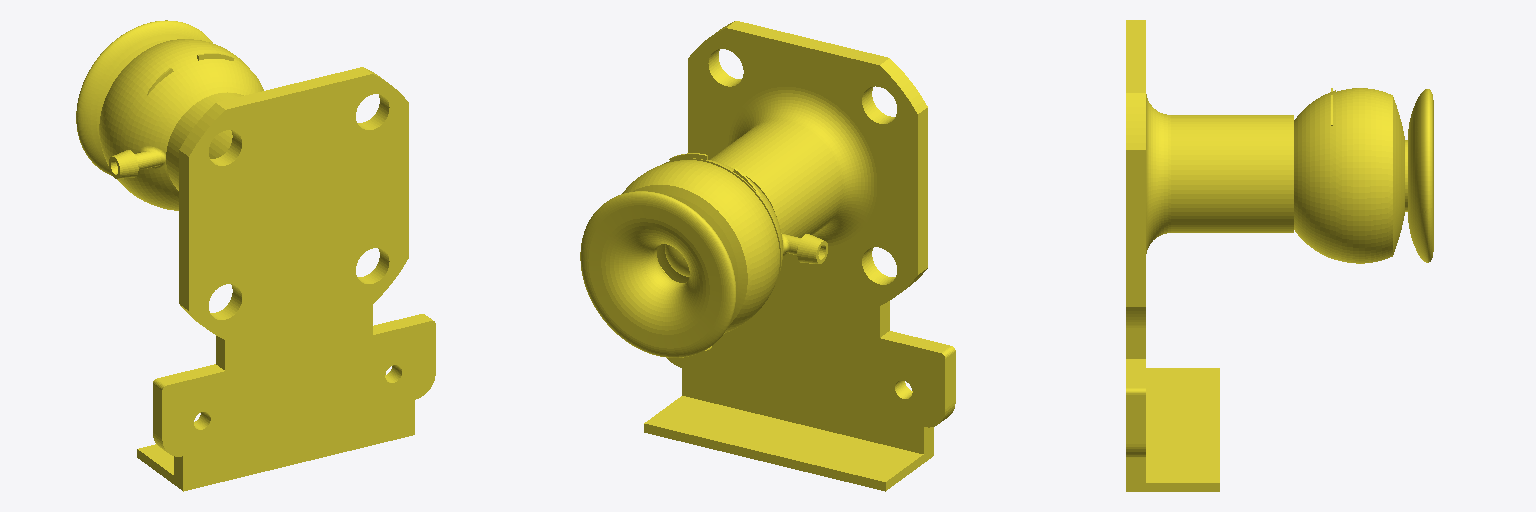
The robot description file, URDF, robot "ur3e_robot":
<?xml version="1.0" ?>
<!-- =================================================================================== -->
<!-- |    This document was autogenerated by xacro from [local-path]/PycharmProjects/realsense/catkin_ws/src/universal_robot/ur_description/urdf/ur3e.xacro | -->
<!-- |    EDITING THIS FILE BY HAND IS NOT RECOMMENDED                                 | -->
<!-- =================================================================================== -->
<robot name="ur3e_robot">
    <!--
    Base UR robot series xacro macro.

    NOTE: this is NOT a URDF. It cannot directly be loaded by consumers
    expecting a flattened '.urdf' file. See the top-level '.xacro' for that
    (but note: that .xacro must still be processed by the xacro command).

    For use in '.launch' files: use one of the 'load_urX.launch' convenience
    launch files.

    This file models the base kinematic chain of a UR robot, which then gets
    parameterised by various configuration files to convert it into a UR3(e),
    UR5(e), UR10(e), UR16e, UR20 or UR30.

    NOTE: the default kinematic parameters (ie: link lengths, frame locations,
    offets, etc) do not correspond to any particular robot. They are defaults
    only. There WILL be non-zero offsets between the Forward Kinematics results
    in TF (ie: robot_state_publisher) and the values reported by the Teach
    Pendant.

    For accurate (and robot-specific) transforms, the 'kinematics_parameters_file'
    parameter MUST point to a .yaml file containing the appropriate values for
    the targetted robot.

    If using the UniversalRobots/Universal_Robots_ROS_Driver, follow the steps
    described in the readme of that repository to extract the kinematic
    calibration from the controller and generate the required .yaml file.

    Main author of the migration to yaml configs: [author].

    Contributors to previous versions (in no particular order):

     - [author]
     - [author]
     - [author]
     - [author]
     - [author]
     - [author]
     - [author]
     - [author]
     - [author]
     - [author]
     - [author]
     - [author]
     - [author]
     - [author]
     - [author]
     - [author]
     - [author]
  -->
    <!--
    NOTE: the macro defined in this file is NOT part of the public API of this
          package. Users CANNOT rely on this file being available, or stored in
          this location. Nor can they rely on the existence of the macro.
  -->
    <transmission name="shoulder_pan_trans">
        <type>transmission_interface/SimpleTransmission</type>
        <joint name="shoulder_pan_joint">
            <hardwareInterface>hardware_interface/PositionJointInterface</hardwareInterface>
        </joint>
        <actuator name="shoulder_pan_motor">
            <mechanicalReduction>1</mechanicalReduction>
            <hardwareInterface>hardware_interface/EffortJointInterface</hardwareInterface>
        </actuator>
    </transmission>
    <transmission name="shoulder_lift_trans">
        <type>transmission_interface/SimpleTransmission</type>
        <joint name="shoulder_lift_joint">
            <hardwareInterface>hardware_interface/PositionJointInterface</hardwareInterface>
        </joint>
        <actuator name="shoulder_lift_motor">
            <mechanicalReduction>1</mechanicalReduction>
            <hardwareInterface>hardware_interface/EffortJointInterface</hardwareInterface>
        </actuator>
    </transmission>
    <transmission name="elbow_trans">
        <type>transmission_interface/SimpleTransmission</type>
        <joint name="elbow_joint">
            <hardwareInterface>hardware_interface/PositionJointInterface</hardwareInterface>
        </joint>
        <actuator name="elbow_motor">
            <mechanicalReduction>1</mechanicalReduction>
            <hardwareInterface>hardware_interface/EffortJointInterface</hardwareInterface>
        </actuator>
    </transmission>
    <transmission name="wrist_1_trans">
        <type>transmission_interface/SimpleTransmission</type>
        <joint name="wrist_1_joint">
            <hardwareInterface>hardware_interface/PositionJointInterface</hardwareInterface>
        </joint>
        <actuator name="wrist_1_motor">
            <mechanicalReduction>1</mechanicalReduction>
            <hardwareInterface>hardware_interface/EffortJointInterface</hardwareInterface>
        </actuator>
    </transmission>
    <transmission name="wrist_2_trans">
        <type>transmission_interface/SimpleTransmission</type>
        <joint name="wrist_2_joint">
            <hardwareInterface>hardware_interface/PositionJointInterface</hardwareInterface>
        </joint>
        <actuator name="wrist_2_motor">
            <mechanicalReduction>1</mechanicalReduction>
            <hardwareInterface>hardware_interface/EffortJointInterface</hardwareInterface>
        </actuator>
    </transmission>
    <transmission name="wrist_3_trans">
        <type>transmission_interface/SimpleTransmission</type>
        <joint name="wrist_3_joint">
            <hardwareInterface>hardware_interface/PositionJointInterface</hardwareInterface>
        </joint>
        <actuator name="wrist_3_motor">
            <mechanicalReduction>1</mechanicalReduction>
            <hardwareInterface>hardware_interface/EffortJointInterface</hardwareInterface>
        </actuator>
    </transmission>
    <!-- links: main serial chain -->
    <link name="base_link" />
    <link name="base_link_inertia">
        <visual>
            <origin rpy="0 0 3.141592653589793" xyz="0 0 0" />
            <geometry>
                <mesh filename="package://ur_description/meshes/ur3e/visual/base.dae" />
            </geometry>
            <material name="LightGrey">
                <color rgba="0.7 0.7 0.7 1.0" />
            </material>
        </visual>
        <collision>
            <origin rpy="0 0 3.141592653589793" xyz="0 0 0" />
            <geometry>
                <mesh filename="package://ur_description/meshes/ur3e/collision/base.stl" />
            </geometry>
        </collision>
        <inertial>
            <mass value="2.0" />
            <origin rpy="0 0 0" xyz="0 0 0" />
            <inertia ixx="0.0030531654454" ixy="0.0" ixz="0.0" iyy="0.0030531654454" iyz="0.0" izz="0.005625" />
        </inertial>
    </link>
    <link name="shoulder_link">
        <visual>
            <origin rpy="0 0 3.141592653589793" xyz="0 0 0" />
            <geometry>
                <mesh filename="package://ur_description/meshes/ur3e/visual/shoulder.dae" />
            </geometry>
            <material name="LightGrey">
                <color rgba="0.7 0.7 0.7 1.0" />
            </material>
        </visual>
        <collision>
            <origin rpy="0 0 3.141592653589793" xyz="0 0 0" />
            <geometry>
                <mesh filename="package://ur_description/meshes/ur3e/collision/shoulder.stl" />
            </geometry>
        </collision>
        <inertial>
            <mass value="2.0" />
            <origin rpy="0 0 0" xyz="0 0 0" />
            <inertia ixx="0.008093163429399999" ixy="0.0" ixz="0.0" iyy="0.008093163429399999" iyz="0.0" izz="0.005625" />
        </inertial>
    </link>
    <link name="upper_arm_link">
        <visual>
            <origin rpy="1.5707963267948966 0 -1.5707963267948966" xyz="0 0 0.12" />
            <geometry>
                <mesh filename="package://ur_description/meshes/ur3e/visual/upperarm.dae" />
            </geometry>
            <material name="LightGrey">
                <color rgba="0.7 0.7 0.7 1.0" />
            </material>
        </visual>
        <collision>
            <origin rpy="1.5707963267948966 0 -1.5707963267948966" xyz="0 0 0.12" />
            <geometry>
                <mesh filename="package://ur_description/meshes/ur3e/collision/upperarm.stl" />
            </geometry>
        </collision>
        <inertial>
            <mass value="3.42" />
            <origin rpy="0 1.5707963267948966 0" xyz="-0.121825 0.0 0.12" />
            <inertia ixx="0.021728483221103233" ixy="0.0" ixz="0.0" iyy="0.021728483221103233" iyz="0.0" izz="0.00961875" />
        </inertial>
    </link>
    <link name="forearm_link">
        <visual>
            <origin rpy="1.5707963267948966 0 -1.5707963267948966" xyz="0 0 0.027" />
            <geometry>
                <mesh filename="package://ur_description/meshes/ur3e/visual/forearm.dae" />
            </geometry>
            <material name="LightGrey">
                <color rgba="0.7 0.7 0.7 1.0" />
            </material>
        </visual>
        <collision>
            <origin rpy="1.5707963267948966 0 -1.5707963267948966" xyz="0 0 0.027" />
            <geometry>
                <mesh filename="package://ur_description/meshes/ur3e/collision/forearm.stl" />
            </geometry>
        </collision>
        <inertial>
            <mass value="1.26" />
            <origin rpy="0 1.5707963267948966 0" xyz="-0.1066 0.0 0.027" />
            <inertia ixx="0.0065445675821719194" ixy="0.0" ixz="0.0" iyy="0.0065445675821719194" iyz="0.0" izz="0.00354375" />
        </inertial>
    </link>
    <link name="wrist_1_link">
        <visual>
            <!-- TODO: Move this to a parameter -->
            <origin rpy="1.5707963267948966 0 0" xyz="0 0 -0.104" />
            <geometry>
                <mesh filename="package://ur_description/meshes/ur3e/visual/wrist1.dae" />
            </geometry>
            <material name="LightGrey">
                <color rgba="0.7 0.7 0.7 1.0" />
            </material>
        </visual>
        <collision>
            <origin rpy="1.5707963267948966 0 0" xyz="0 0 -0.104" />
            <geometry>
                <mesh filename="package://ur_description/meshes/ur3e/collision/wrist1.stl" />
            </geometry>
        </collision>
        <inertial>
            <mass value="0.8" />
            <origin rpy="0 0 0" xyz="0 0 0" />
            <inertia ixx="0.002084999166" ixy="0.0" ixz="0.0" iyy="0.002084999166" iyz="0.0" izz="0.00225" />
        </inertial>
    </link>
    <link name="wrist_2_link">
        <visual>
            <origin rpy="0 0 0" xyz="0 0 -0.08535" />
            <geometry>
                <mesh filename="package://ur_description/meshes/ur3e/visual/wrist2.dae" />
            </geometry>
            <material name="LightGrey">
                <color rgba="0.7 0.7 0.7 1.0" />
            </material>
        </visual>
        <collision>
            <origin rpy="0 0 0" xyz="0 0 -0.08535" />
            <geometry>
                <mesh filename="package://ur_description/meshes/ur3e/collision/wrist2.stl" />
            </geometry>
        </collision>
        <inertial>
            <mass value="0.8" />
            <origin rpy="0 0 0" xyz="0 0 0" />
            <inertia ixx="0.002084999166" ixy="0.0" ixz="0.0" iyy="0.002084999166" iyz="0.0" izz="0.00225" />
        </inertial>
    </link>
    <link name="wrist_3_link">
        <visual>
            <origin rpy="1.5707963267948966 0 0" xyz="0 0 -0.0921" />
            <geometry>
                <mesh filename="package://ur_description/meshes/ur3e/visual/wrist3.dae" />
            </geometry>
            <material name="LightGrey">
                <color rgba="0.7 0.7 0.7 1.0" />
            </material>
        </visual>
        <collision>
            <origin rpy="1.5707963267948966 0 0" xyz="0 0 -0.0921" />
            <geometry>
                <mesh filename="package://ur_description/meshes/ur3e/collision/wrist3.stl" />
            </geometry>
        </collision>
        <inertial>
            <mass value="0.35" />
            <origin rpy="0 0 0" xyz="0.0 0.0 -0.02" />
            <inertia ixx="0.00013626661215999998" ixy="0.0" ixz="0.0" iyy="0.00013626661215999998" iyz="0.0" izz="0.0001792" />
        </inertial>
    </link>
    <!-- joints: main serial chain -->
    <joint name="base_link-base_link_inertia" type="fixed">
        <parent link="base_link" />
        <child link="base_link_inertia" />
        <!-- 'base_link' is REP-103 aligned (so X+ forward), while the internal
           frames of the robot/controller have X+ pointing backwards.
           Use the joint between 'base_link' and 'base_link_inertia' (a dummy
           link/frame) to introduce the necessary rotation over Z (of pi rad).
      -->
        <origin rpy="0 0 3.141592653589793" xyz="0 0 0" />
    </joint>
    <joint name="shoulder_pan_joint" type="revolute">
        <parent link="base_link_inertia" />
        <child link="shoulder_link" />
        <origin rpy="0 0 0" xyz="0 0 0.15185" />
        <axis xyz="0 0 1" />
        <limit effort="56.0" lower="-6.283185307179586" upper="6.283185307179586" velocity="3.141592653589793" />
        <dynamics damping="0" friction="0" />
    </joint>
    <joint name="shoulder_lift_joint" type="revolute">
        <parent link="shoulder_link" />
        <child link="upper_arm_link" />
        <origin rpy="1.570796327 0 0" xyz="0 0 0" />
        <axis xyz="0 0 1" />
        <limit effort="56.0" lower="-6.283185307179586" upper="6.283185307179586" velocity="3.141592653589793" />
        <dynamics damping="0" friction="0" />
    </joint>
    <joint name="elbow_joint" type="revolute">
        <parent link="upper_arm_link" />
        <child link="forearm_link" />
        <origin rpy="0 0 0" xyz="-0.24355 0 0" />
        <axis xyz="0 0 1" />
        <limit effort="28.0" lower="-3.141592653589793" upper="3.141592653589793" velocity="3.141592653589793" />
        <dynamics damping="0" friction="0" />
    </joint>
    <joint name="wrist_1_joint" type="revolute">
        <parent link="forearm_link" />
        <child link="wrist_1_link" />
        <origin rpy="0 0 0" xyz="-0.2132 0 0.13105" />
        <axis xyz="0 0 1" />
        <limit effort="12.0" lower="-6.283185307179586" upper="6.283185307179586" velocity="6.283185307179586" />
        <dynamics damping="0" friction="0" />
    </joint>
    <joint name="wrist_2_joint" type="revolute">
        <parent link="wrist_1_link" />
        <child link="wrist_2_link" />
        <origin rpy="1.570796327 0 0" xyz="0 -0.08535 -1.750557762378351e-11" />
        <axis xyz="0 0 1" />
        <limit effort="12.0" lower="-6.283185307179586" upper="6.283185307179586" velocity="6.283185307179586" />
        <dynamics damping="0" friction="0" />
    </joint>
    <joint name="wrist_3_joint" type="revolute">
        <parent link="wrist_2_link" />
        <child link="wrist_3_link" />
        <origin rpy="1.570796326589793 3.141592653589793 3.141592653589793" xyz="0 0.0921 -1.8890025766262e-11" />
        <axis xyz="0 0 1" />
        <limit effort="12.0" lower="-6.283185307179586" upper="6.283185307179586" velocity="6.283185307179586" />
        <dynamics damping="0" friction="0" />
    </joint>
    <!-- ROS-Industrial 'base' frame: base_link to UR 'Base' Coordinates transform -->
    <link name="base" />
    <joint name="base_link-base_fixed_joint" type="fixed">
        <!-- Note the rotation over Z of pi radians: as base_link is REP-103
           aligned (ie: has X+ forward, Y+ left and Z+ up), this is needed
           to correctly align 'base' with the 'Base' coordinate system of
           the UR controller.
      -->
        <origin rpy="0 0 3.141592653589793" xyz="0 0 0" />
        <parent link="base_link" />
        <child link="base" />
    </joint>
    <!-- ROS-Industrial 'flange' frame: attachment point for EEF models -->
    <link name="flange" />
    <joint name="wrist_3-flange" type="fixed">
        <parent link="wrist_3_link" />
        <child link="flange" />
        <origin rpy="0 -1.5707963267948966 -1.5707963267948966" xyz="0 0 0" />
    </joint>
    <!-- ROS-Industrial 'tool0' frame: all-zeros tool frame -->
    <link name="tool0" />
    <joint name="flange-tool0" type="fixed">
        <!-- default toolframe: X+ left, Y+ up, Z+ front -->
        <origin rpy="1.5707963267948966 0 1.5707963267948966" xyz="0 0 0" />
        <parent link="flange" />
        <child link="tool0" />
    </joint>
    <!-- Gripper Link -->
    <link name="gripper">
        <visual>
            <origin xyz="0 0 0" />
            <geometry>
                <mesh filename="package://gripper/meshes/AOS_mount.stl" scale="0.001 0.001 0.001" />
            </geometry>
        </visual>
        <collision>
            <origin xyz="0 0 0" />
            <geometry>
                <mesh filename="package://gripper/meshes/AOS_mount.stl" scale="0.001 0.001 0.001" />
            </geometry>
        </collision>
        <inertial>
            <origin rpy="0 0 0" xyz="0 0 0" />
            <mass value="0.2" />
            <inertia ixx="0.001" ixy="0.0" ixz="0.0" iyy="0.001" iyz="0.0" izz="0.001" />
        </inertial>
    </link>
    <!-- Joint connecting tool0 to gripper -->
    <joint name="tool0_gripper_joint" type="fixed">
        <parent link="tool0" />
        <child link="gripper" />
        <origin rpy="0 0 0" xyz="0 0 0" />
    </joint>
    <gazebo>
        <plugin name="gazebo_ros_control" filename="libgazebo_ros_control.so">
            <robotNamespace>/</robotNamespace>
        </plugin>
    </gazebo>
</robot>

--- Render facts (derived) ---
The picture shows the robot from 3 angles, left to right: view 1: azimuth 30°, elevation 25°; view 2: azimuth 150°, elevation 25°; view 3: azimuth 270°, elevation 25°; orthographic projection.
Model ur3e_robot with 12 links and 11 joints (6 revolute, 5 fixed), rooted at base_link, posed every joint at zero.
Visible links, largest first — view 1: gripper; view 2: gripper; view 3: gripper.
Link boxes in pixels (x1,y1,x2,y2): gripper: (76,20,435,491); gripper: (580,21,955,491); gripper: (1126,20,1433,491).
Bounding box of the posed robot: 0.065 × 0.0623 × 0.0844 m (x, y, z).
1 mesh visuals loaded from 8 distinct referenced files (1 binary STL); not drawn: 7 (reference not matched to a file when rendering).